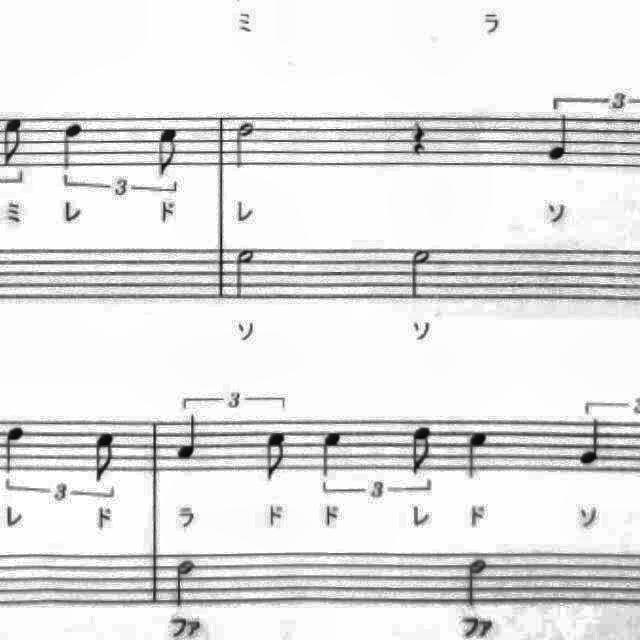Eighth-note: (405, 421, 441, 483), (259, 428, 295, 490), (152, 121, 188, 182), (88, 428, 124, 488), (0, 112, 30, 170)
Half-note: (400, 242, 440, 306), (229, 242, 263, 306), (169, 552, 203, 612), (461, 554, 494, 614), (230, 116, 262, 172)
Quarter-note: (457, 424, 495, 488), (572, 415, 612, 473), (542, 110, 582, 166), (54, 116, 90, 174), (314, 426, 348, 486), (170, 412, 206, 466), (0, 420, 30, 478)
Quarter-rest: (404, 115, 434, 163)
